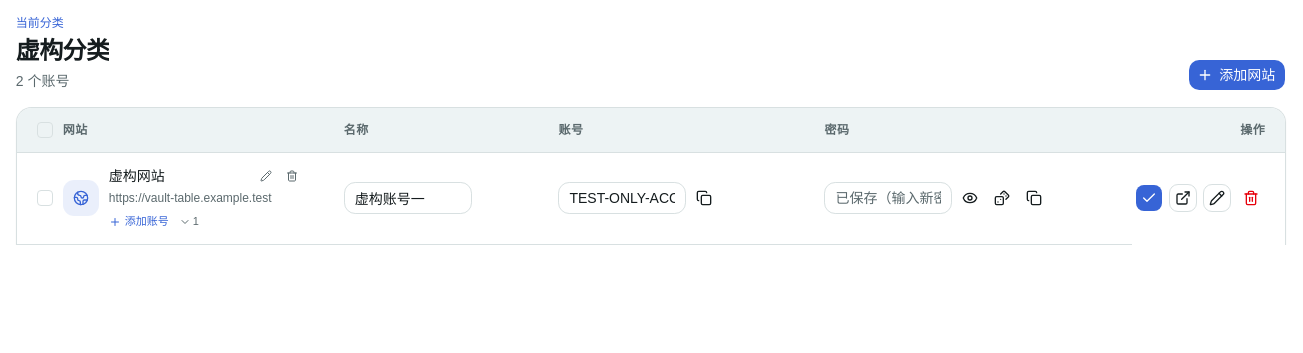
Test: VaultTable account grouping › shows one add control and collapses continuation account rows
This screenshot has width=1303, height=353.
Expected: the number of buttons "添加账号" is 1, 109,214 -> 169,230
Click the button named "展开其余 1 个账号": (189, 222) 175,212 -> 203,232
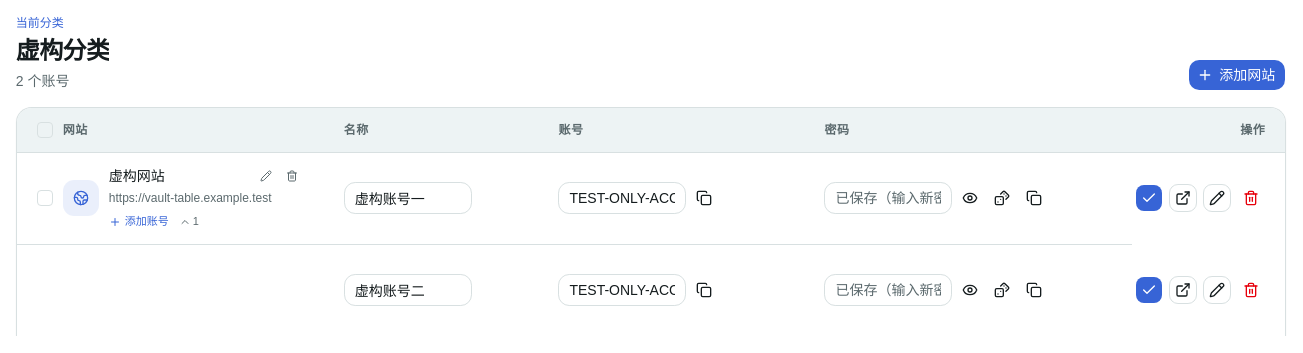
Result: the button named "收起其余 1 个账号" is expanded at 175,212 -> 203,232
